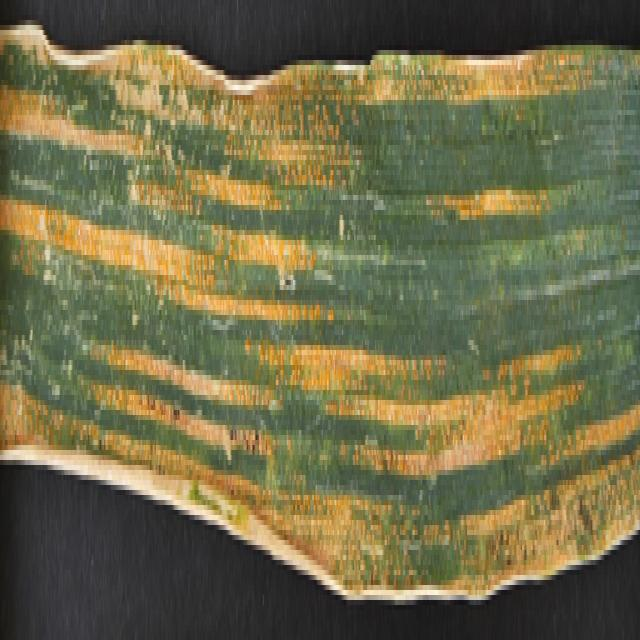leaf rust: (1, 30, 640, 600)
